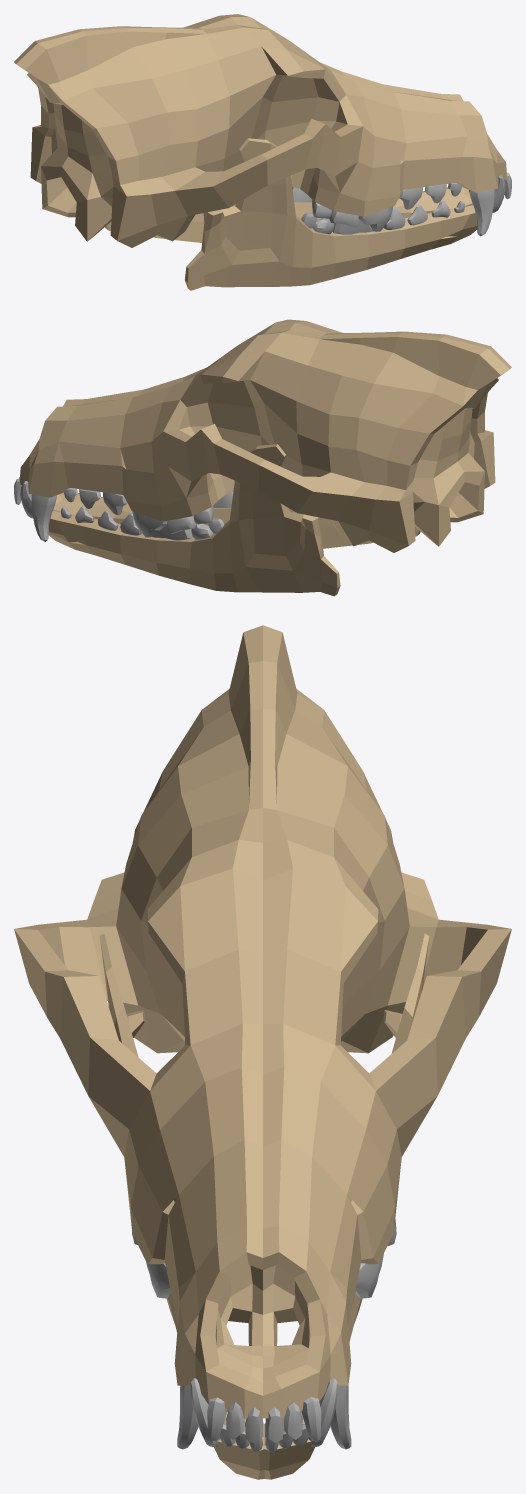
The model's file is wolf skull.obj.
3 views of the same model, one above another, from view 1: azimuth 30°, elevation 25°; view 2: azimuth 150°, elevation 25°; view 3: azimuth 270°, elevation 25° (orthographic). The views are drawn at different scales.
Parts seen in each view (by area): view 1: Skull_Top, Skull_Bottom, Teeth_Top, Teeth_Bottom; view 2: Skull_Top, Skull_Bottom, Teeth_Top, Teeth_Bottom; view 3: Skull_Top, Teeth_Top, Skull_Bottom, Teeth_Bottom.
Part boxes in pixels (left/top/right/bottom): Skull_Top: left=14, top=14, right=507, bottom=247; Skull_Bottom: left=105, top=138, right=477, bottom=290; Teeth_Top: left=312, top=173, right=511, bottom=236; Teeth_Bottom: left=292, top=175, right=505, bottom=234; Skull_Top: left=19, top=319, right=511, bottom=552; Skull_Bottom: left=48, top=444, right=420, bottom=596; Teeth_Top: left=14, top=477, right=213, bottom=541; Teeth_Bottom: left=20, top=481, right=233, bottom=540; Skull_Top: left=14, top=625, right=511, bottom=1418; Teeth_Top: left=132, top=1219, right=396, bottom=1449; Skull_Bottom: left=99, top=933, right=429, bottom=1479; Teeth_Bottom: left=190, top=1378, right=337, bottom=1452.
Size of the model in its own units: 0.236 by 0.1358 by 0.1228.
